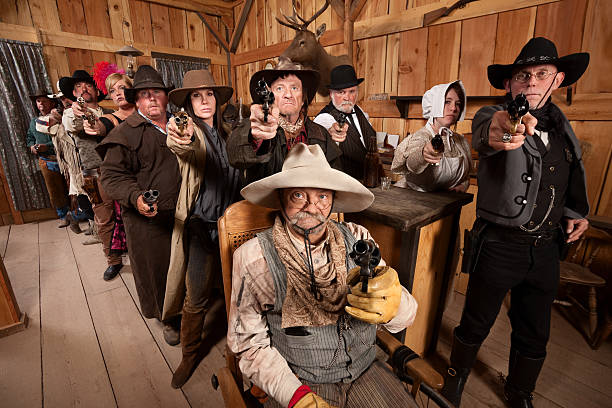gun: (352, 232, 382, 294), (256, 79, 274, 124), (507, 91, 531, 122), (142, 189, 161, 213), (173, 108, 189, 130), (337, 112, 347, 127), (77, 95, 85, 110)
